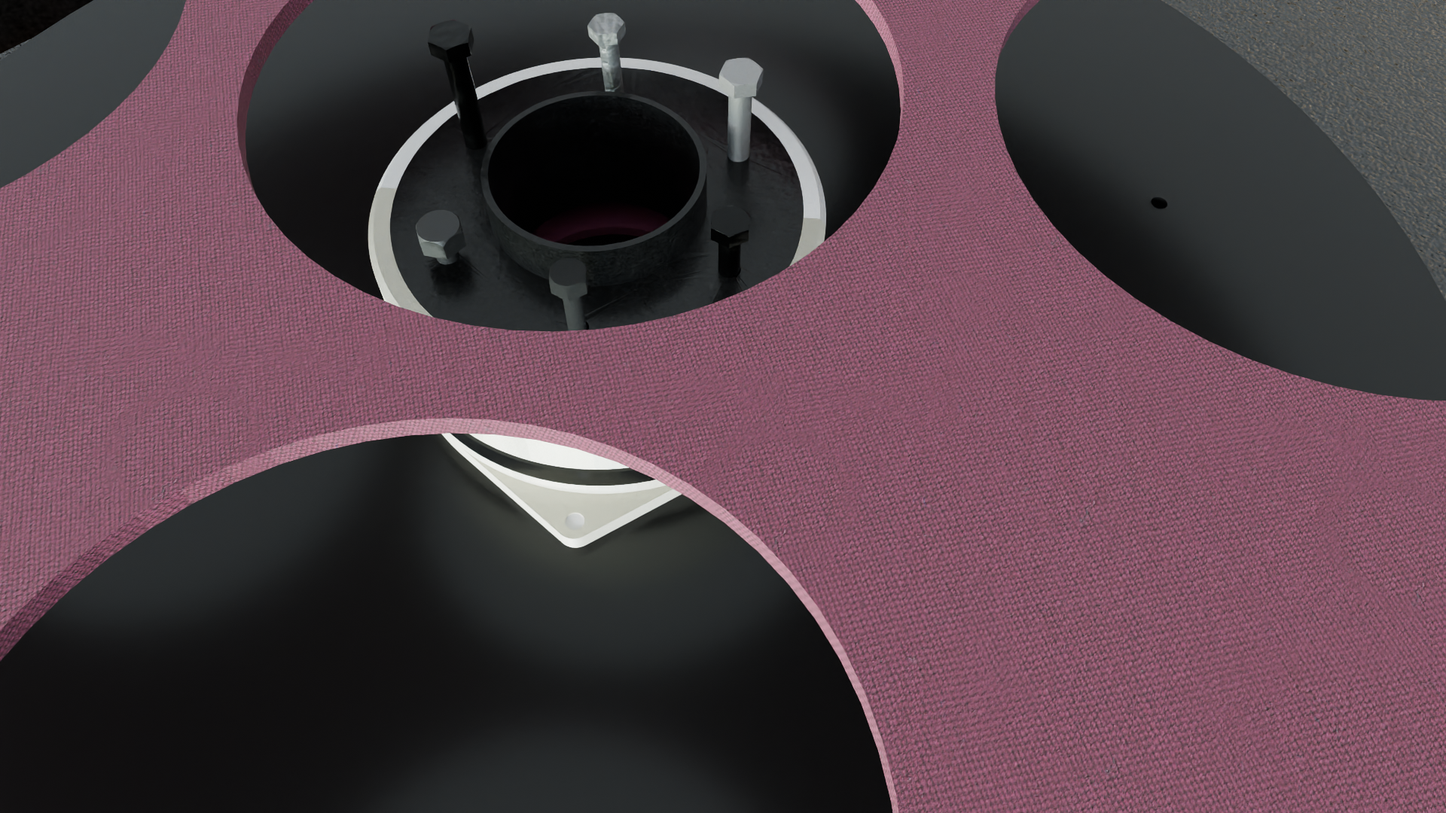bolt: (416, 210, 462, 247), (428, 20, 471, 50), (719, 58, 763, 87), (549, 258, 587, 291), (711, 206, 749, 238), (587, 13, 624, 35)
